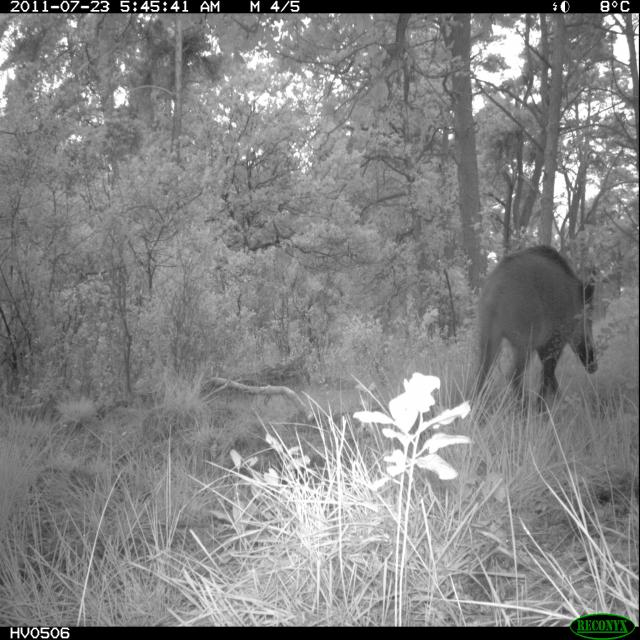boar: (462, 231, 624, 417)
